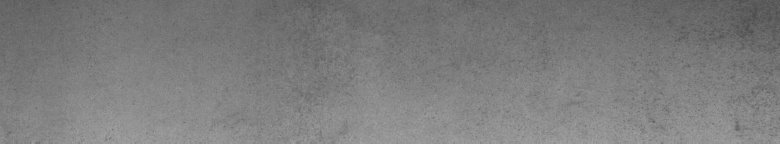ib: (649, 28, 775, 132)
